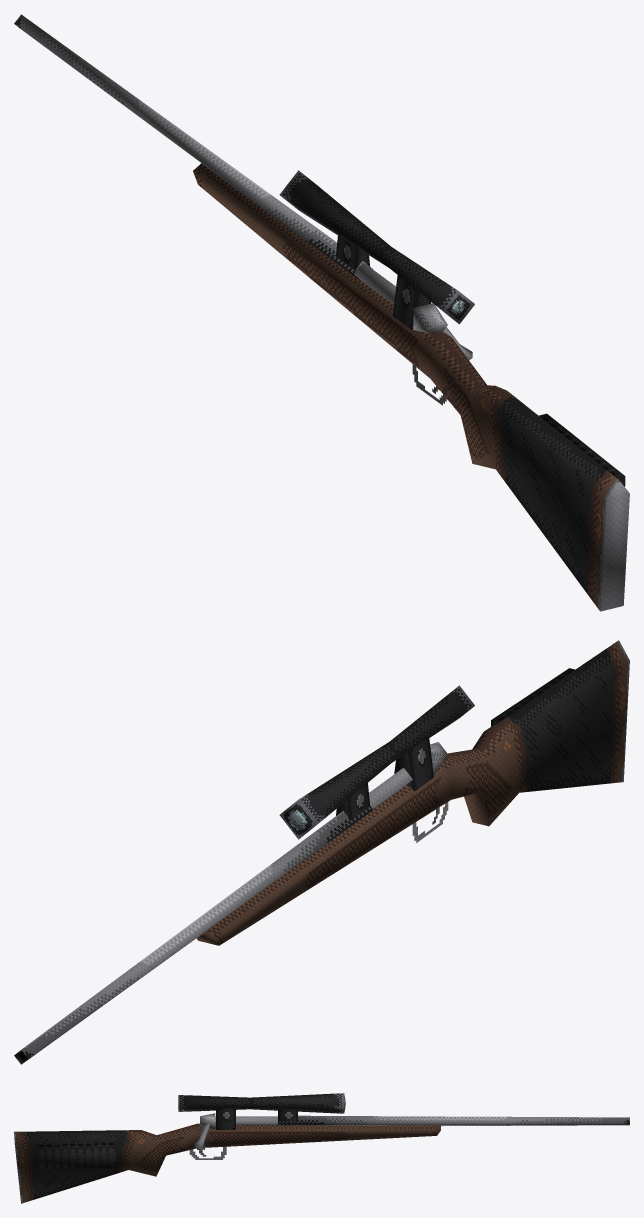
File: winchester model 70.glb
3 renders of one model, top to bottom at view 1: azimuth 30°, elevation 25°; view 2: azimuth 150°, elevation 25°; view 3: azimuth 270°, elevation 25°, orthographic. The views are drawn at different scales.
Parts seen in each view (by area): view 1: Plane; view 2: Plane; view 3: Plane.
Part boxes in pixels (x1,y1,x2,y2): Plane: (14, 14, 629, 611); Plane: (14, 640, 629, 1064); Plane: (14, 1093, 629, 1203).
Size of the model in its own units: 0.0634 by 0.2309 by 1.2.
Materials: 1 (1 with a texture image).
